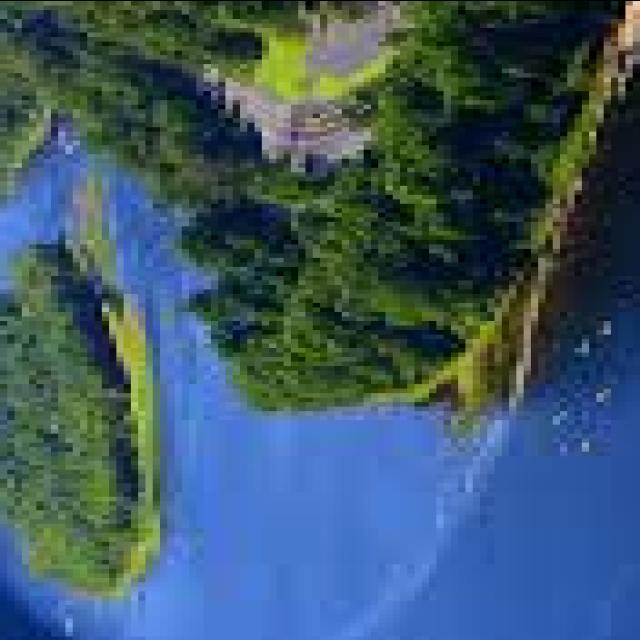-: (160, 473, 640, 640)
